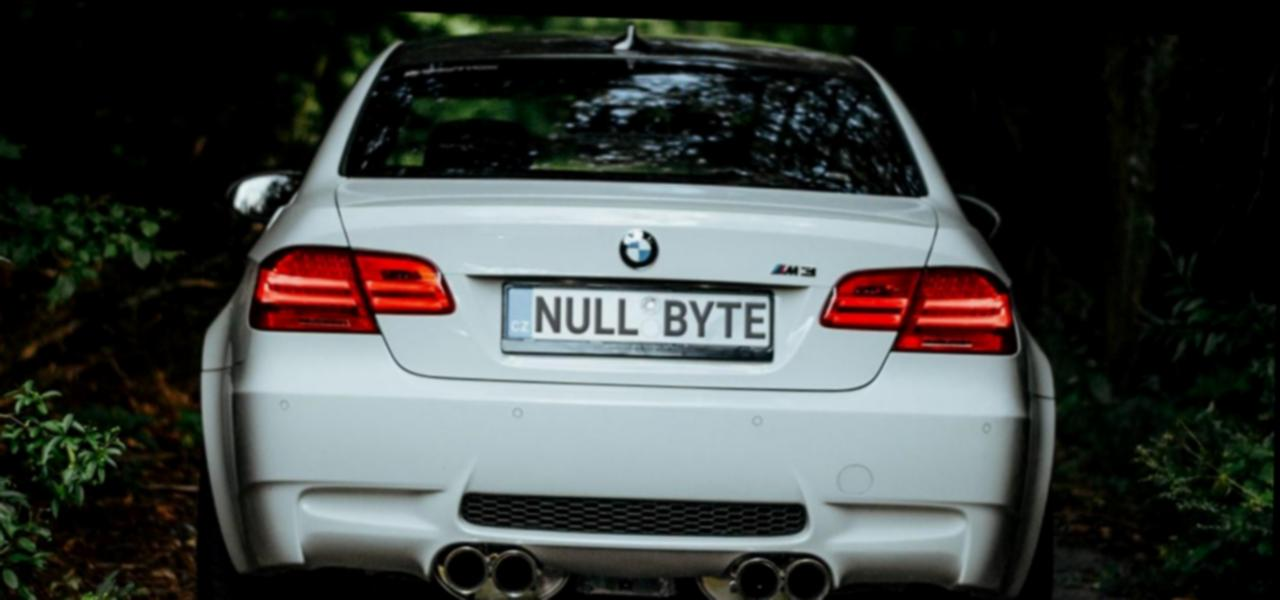License_Plate: (498, 278, 777, 362)
